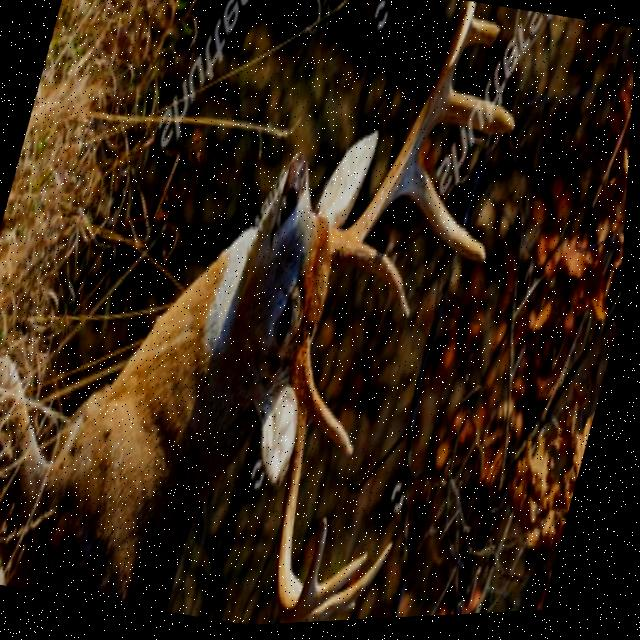L-G1: (344, 245, 413, 325)
L-G2: (395, 159, 491, 270)
L-G3: (428, 86, 516, 143)
L-G4: (461, 18, 501, 59)
R-F: (282, 333, 334, 627)
R-G1: (312, 378, 359, 463)
R-G2: (311, 553, 375, 620)
R-G3: (308, 540, 400, 626)
